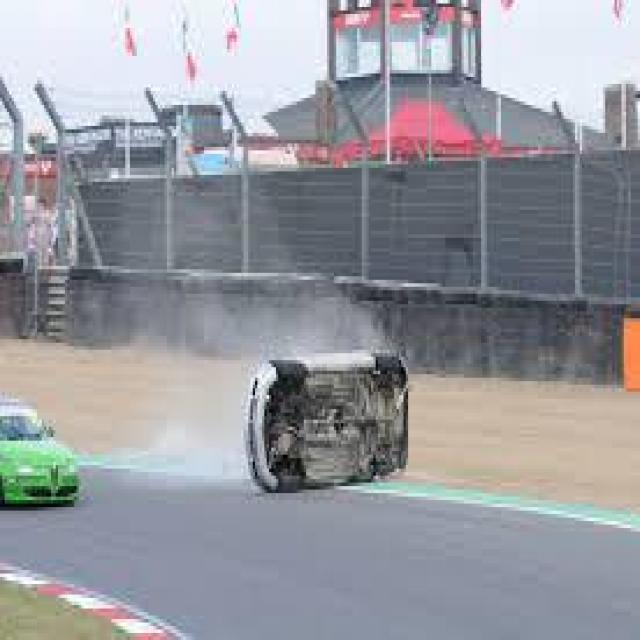accident: (241, 339, 415, 493)
